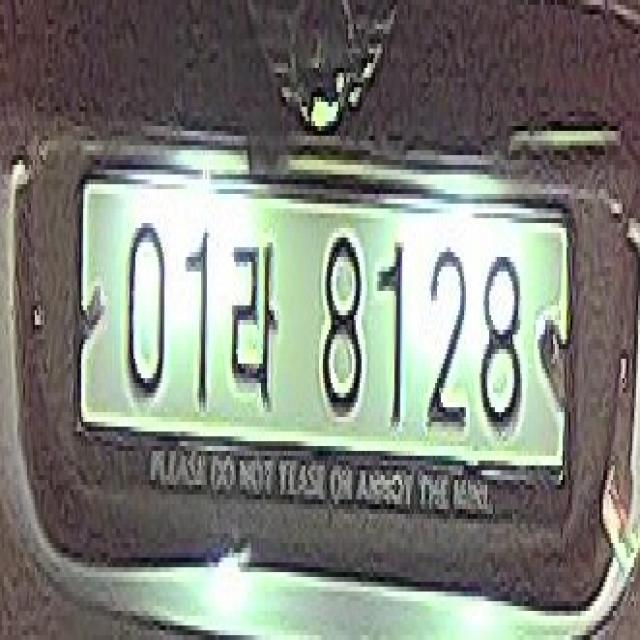0: (122, 204, 174, 420)
1: (372, 235, 416, 438), (184, 220, 215, 418)
2: (426, 235, 472, 444)
8: (311, 216, 368, 427), (478, 246, 528, 449)
la: (224, 230, 285, 432)
license_plate: (72, 167, 579, 497)
